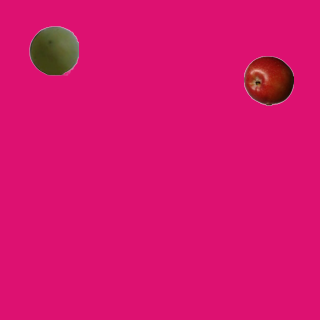Apple Braeburn: (243, 55, 293, 105)
Grape White 4: (28, 25, 78, 75)
